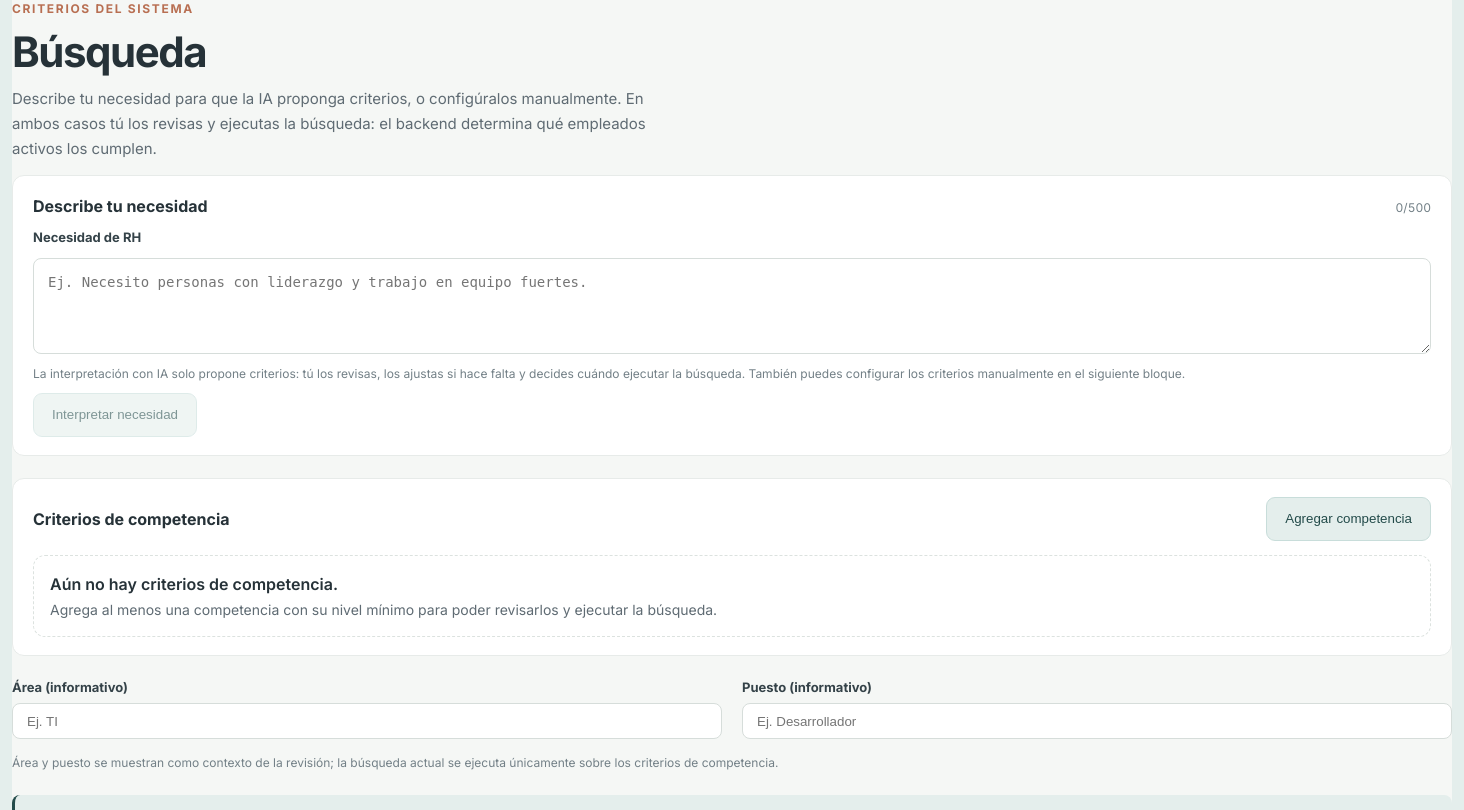
Test: Búsqueda — criterios de competencia › permite cambiar el nivel mínimo dentro del rango 1–5
The image size is (1464, 810).
Step 1. Click the button "Agregar competencia" → (1349, 519), box top-left (1266, 497), bottom-right (1431, 541)
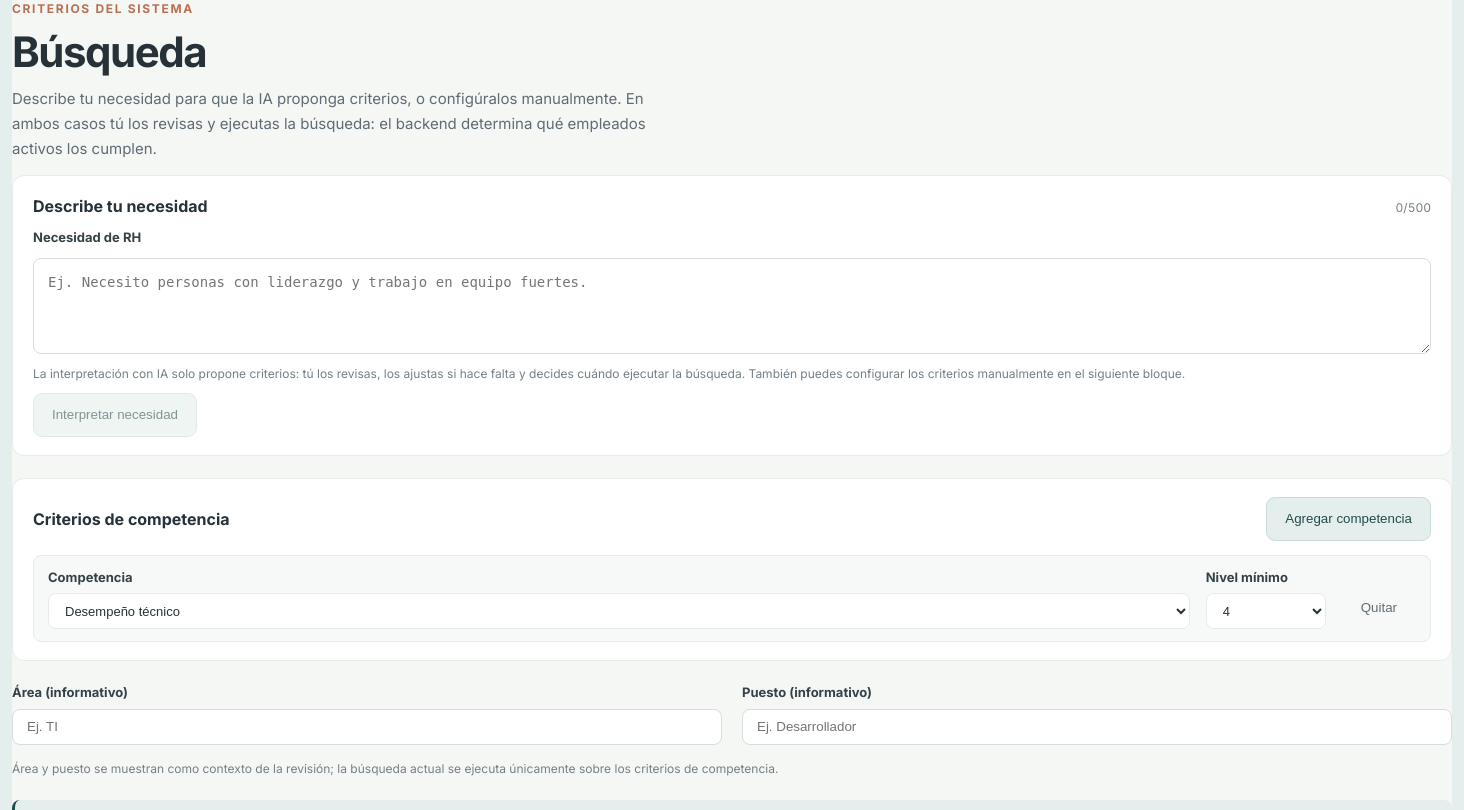
Step 2. Select "2" in the dropdown named "Nivel mínimo del criterio 1" → (1266, 612), box top-left (1206, 594), bottom-right (1326, 630)
(page scrolled)
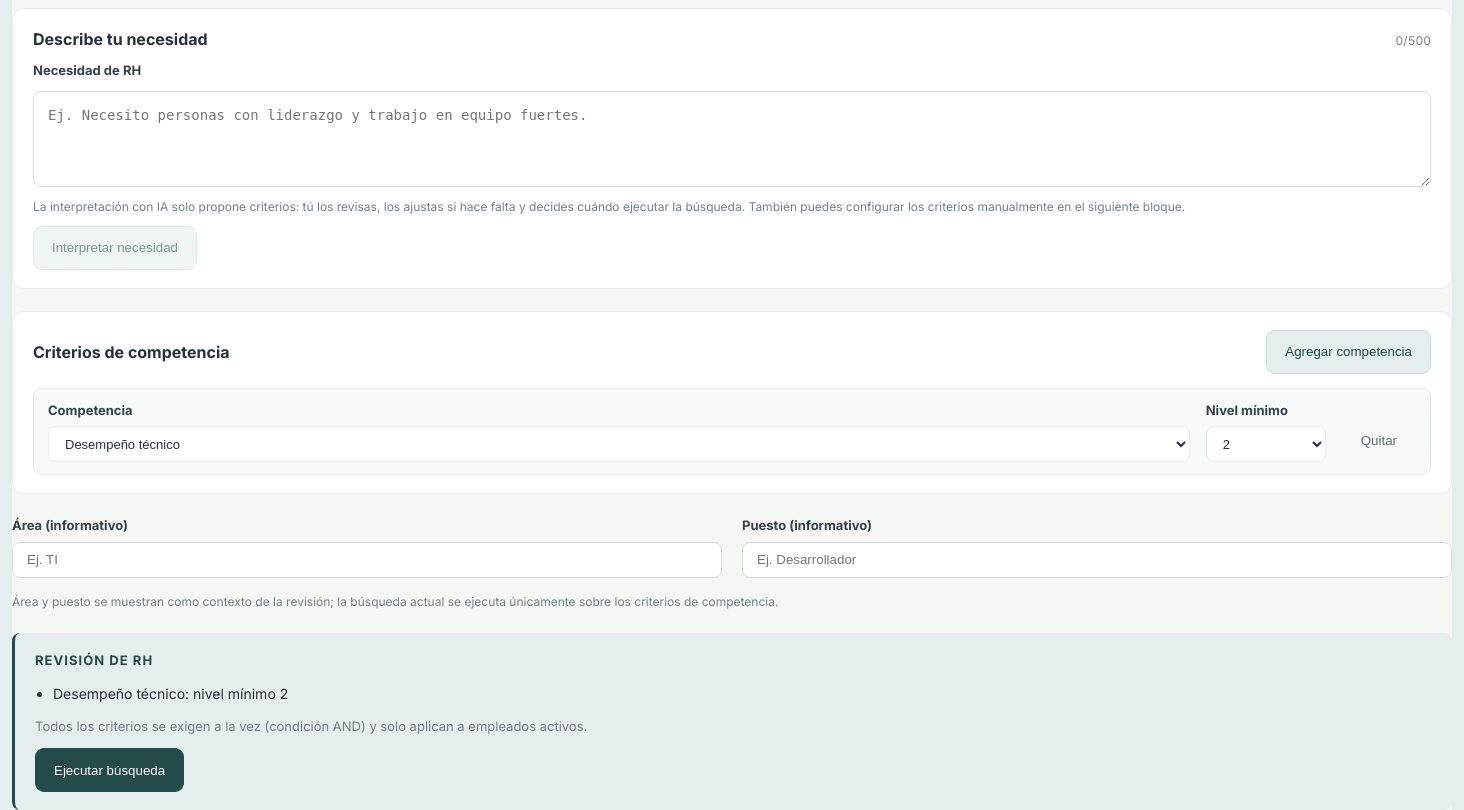
Now the list item "Desempeño técnico: nivel mínimo 2" is shown, box top-left (53, 685), bottom-right (288, 702)
